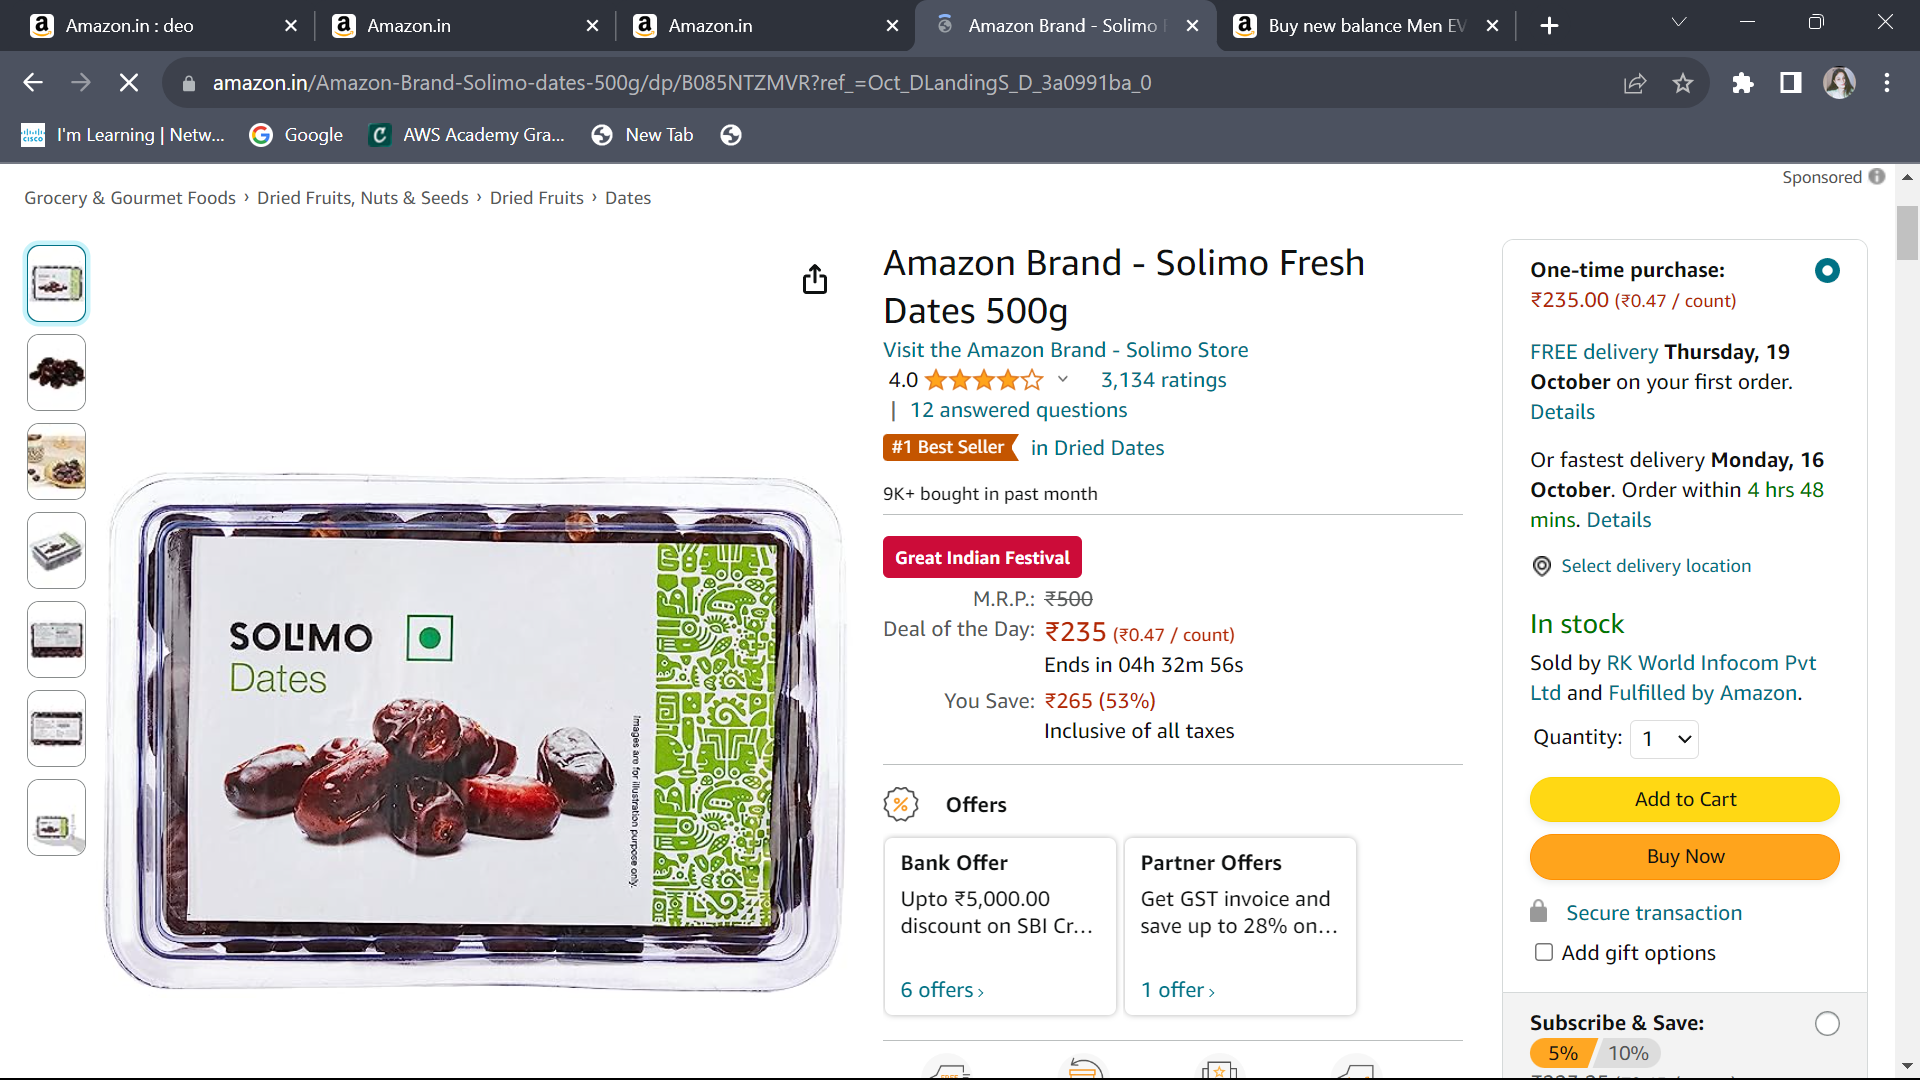Image: (87, 316, 881, 1018)
Paragraph: (874, 782, 1398, 1030), (860, 538, 1249, 753), (1511, 340, 1857, 543), (869, 245, 1391, 340), (1528, 758, 1854, 887), (1526, 647, 1857, 753), (874, 328, 1287, 400), (1523, 245, 1807, 338), (1520, 612, 1654, 645)
